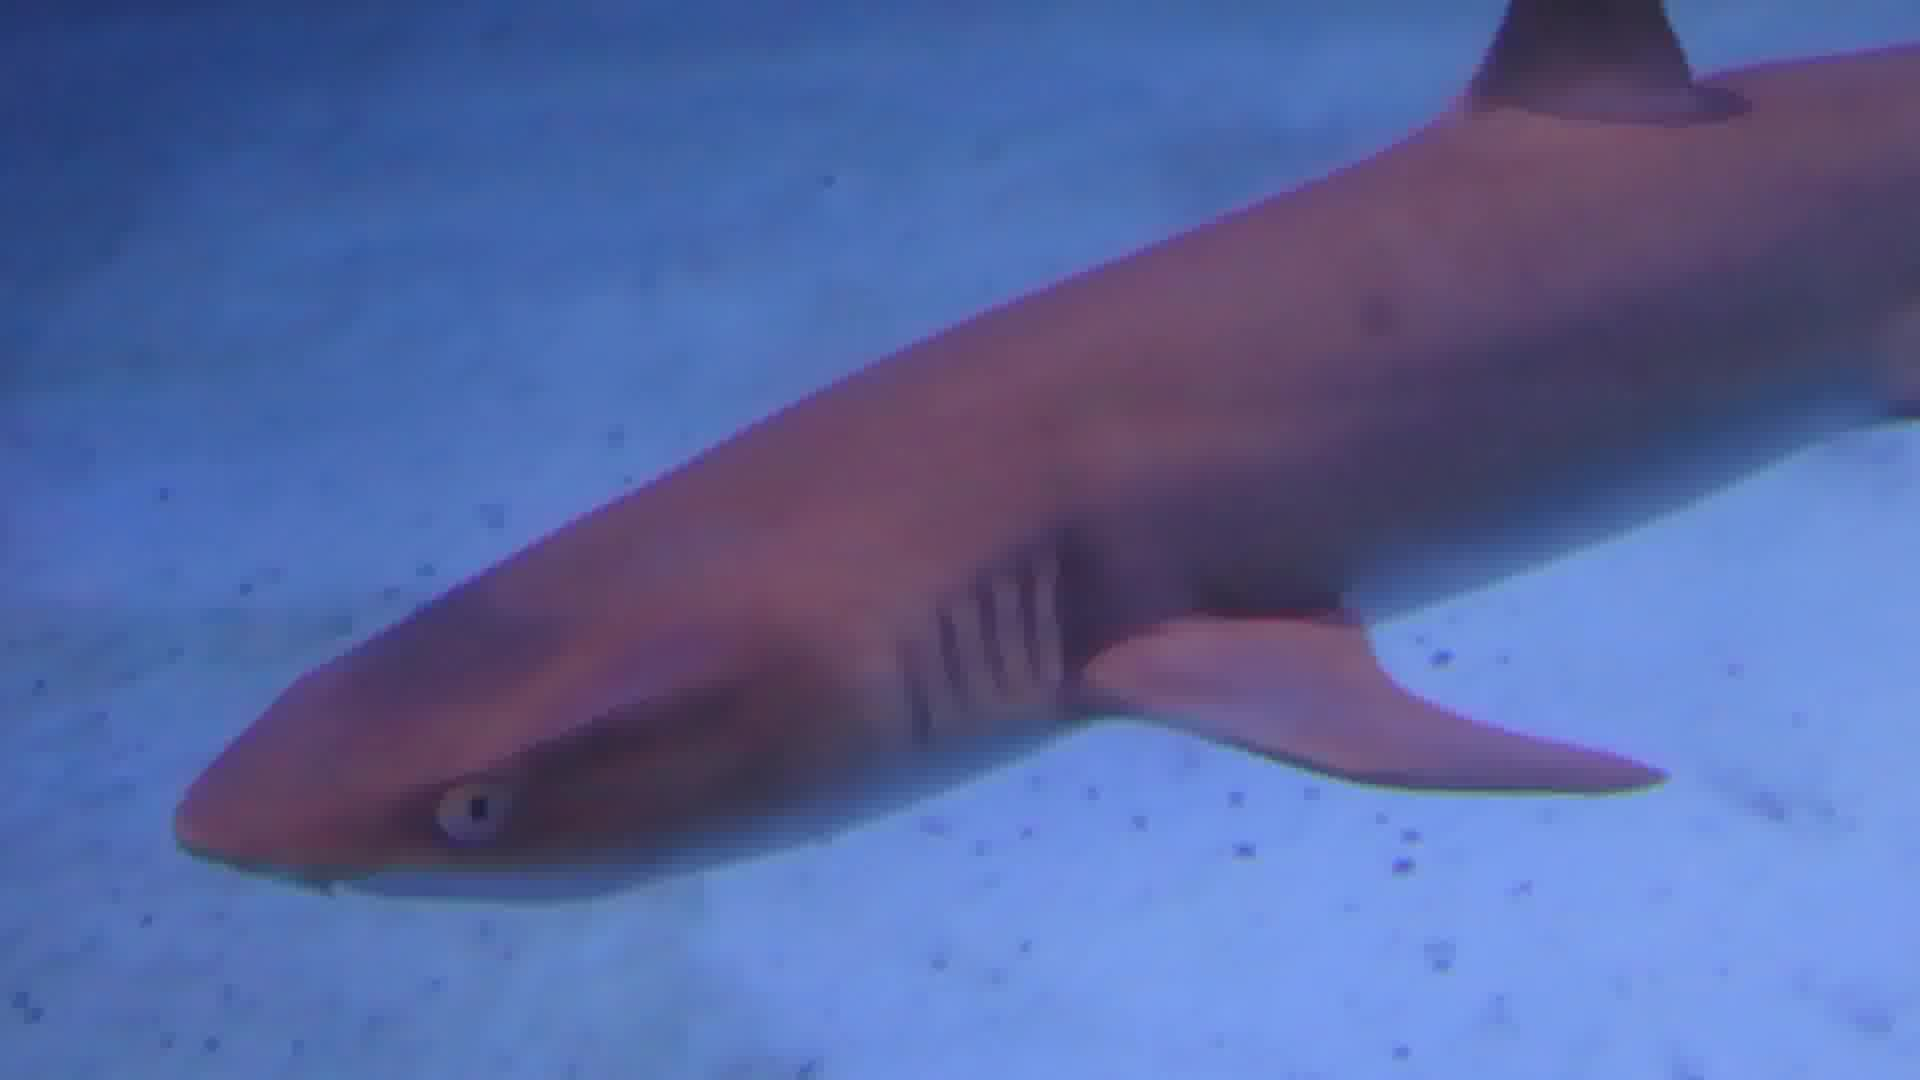Triaenodon obesus: (131, 3, 1920, 935)
